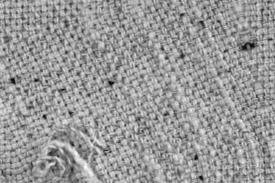snag: (31, 136, 102, 182)
